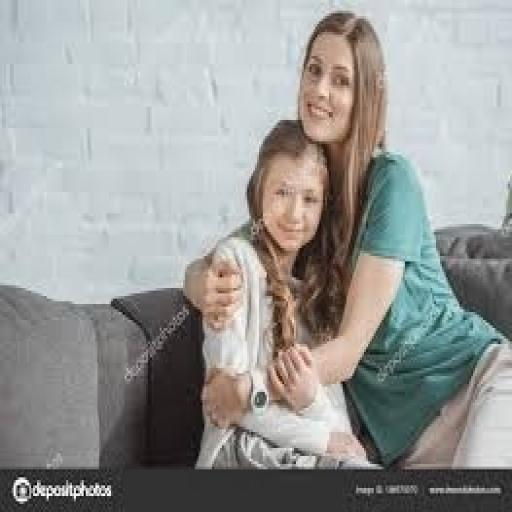hugging: (183, 8, 510, 472), (190, 118, 380, 470)
